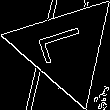L_E: (36, 26, 94, 71)
